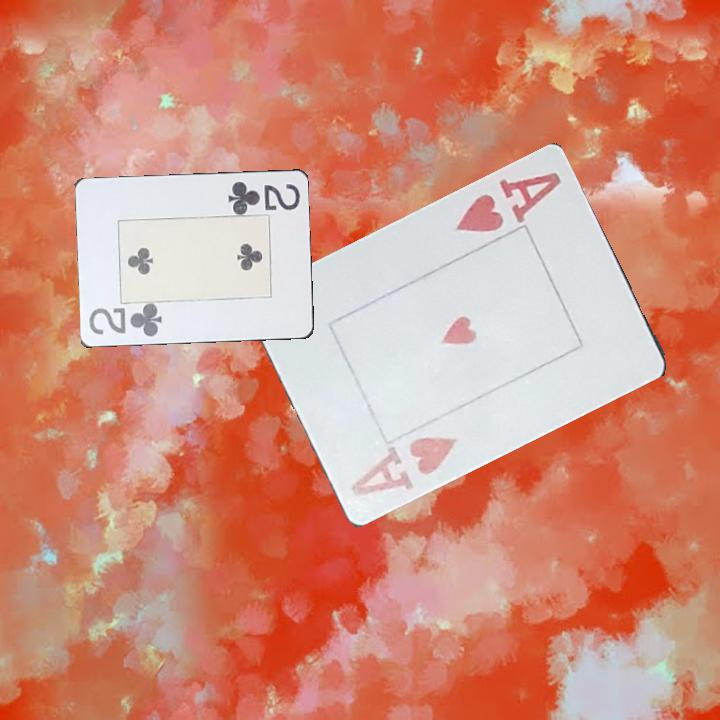2c: (85, 302, 165, 340), (224, 178, 303, 214)
Ah: (347, 429, 461, 499), (452, 167, 564, 235)
